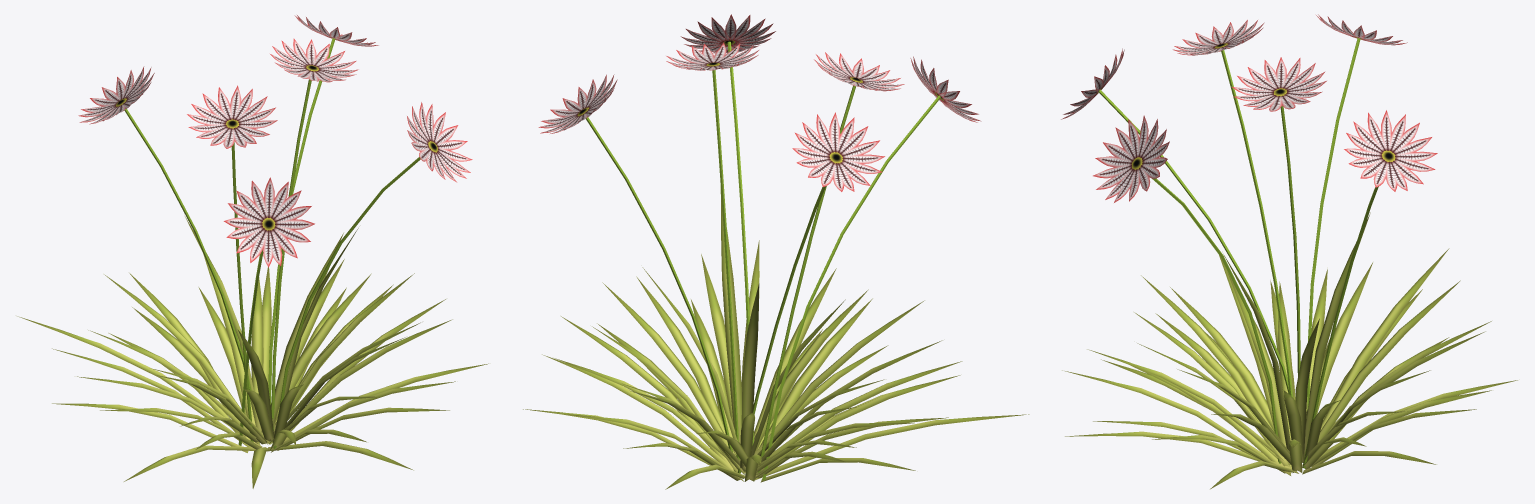
File: planta6.fbx
The picture shows the model from 3 angles, left to right: view 1: azimuth 30°, elevation 25°; view 2: azimuth 150°, elevation 25°; view 3: azimuth 270°, elevation 25°; orthographic projection. The views are drawn at different scales.
Parts seen in each view (by area): view 1: pPlane146, pCylinder14, pCylinder15, pCylinder10, pPlane149, pPlane151, pPlane154, pPlane136, pCylinder12, pPlane140, pPlane141, pPlane137 (+25 smaller); view 2: pPlane133, pCylinder13, pCylinder15, pPlane154, pPlane135, pPlane140, pPlane124, pCylinder12, pPlane125, pPlane139, pCylinder11, pPlane155 (+22 smaller); view 3: pPlane149, pPlane135, pPlane151, pCylinder11, pPlane139, pPlane152, pCylinder14, pCylinder13, pPlane144, pCylinder10, pPlane134, pPlane136 (+23 smaller).
Part boxes in pixels (x1,y1,x2,y2): pPlane146: [261, 273, 371, 433]; pCylinder14: [124, 108, 253, 416]; pCylinder15: [271, 79, 311, 430]; pCylinder10: [273, 157, 420, 449]; pPlane149: [17, 316, 250, 439]; pPlane151: [104, 274, 241, 410]; pPlane154: [273, 273, 414, 431]; pPlane136: [270, 233, 343, 426]; pCylinder12: [268, 38, 335, 404]; pPlane140: [293, 319, 452, 421]; pPlane141: [203, 255, 255, 425]; pPlane137: [251, 277, 263, 431]; pPlane133: [720, 187, 741, 443]; pCylinder13: [762, 95, 940, 480]; pCylinder15: [712, 70, 739, 459]; pPlane154: [602, 282, 736, 455]; pPlane135: [741, 283, 759, 426]; pPlane140: [636, 276, 735, 454]; pPlane124: [759, 298, 872, 447]; pCylinder12: [586, 117, 735, 471]; pPlane125: [754, 414, 1029, 480]; pPlane139: [754, 300, 924, 454]; pCylinder11: [758, 85, 855, 472]; pPlane155: [701, 254, 739, 460]; pPlane149: [1320, 248, 1449, 430]; pPlane135: [1304, 212, 1370, 455]; pPlane151: [1317, 280, 1460, 442]; pCylinder11: [1221, 50, 1292, 397]; pPlane139: [1141, 275, 1274, 431]; pPlane152: [1170, 287, 1274, 429]; pCylinder14: [1307, 38, 1360, 410]; pCylinder13: [1098, 89, 1289, 394]; pPlane144: [1306, 262, 1372, 418]; pCylinder10: [1152, 178, 1281, 463]; pPlane134: [1227, 271, 1286, 447]; pPlane136: [1295, 318, 1319, 456].
Size of the model in its own units: 1.08 by 1.03 by 1.04.
